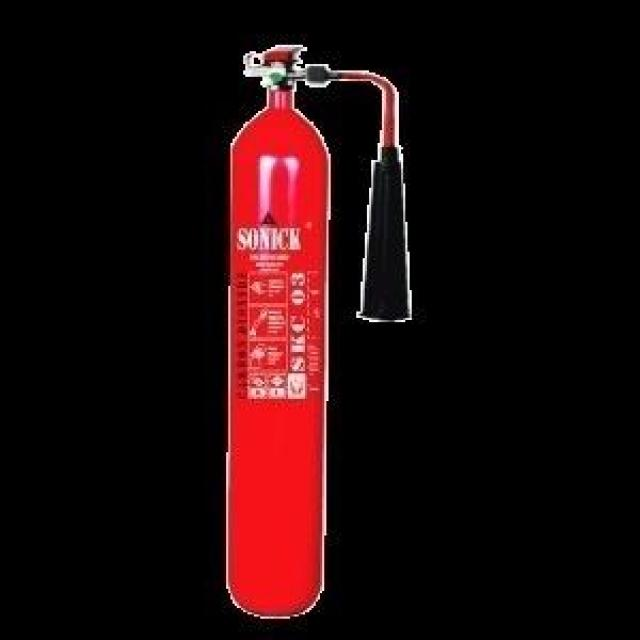fire_extinguisher: (216, 33, 418, 626)
